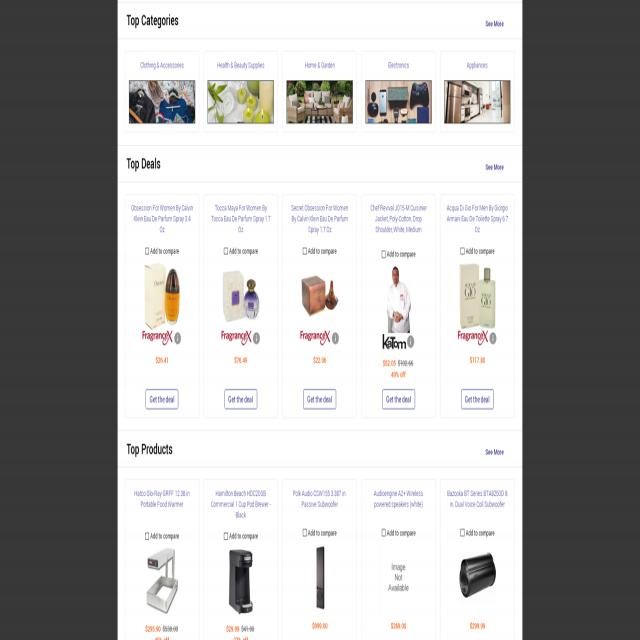button: (362, 195, 436, 420), (203, 195, 277, 418), (125, 194, 198, 418), (283, 194, 356, 418), (441, 196, 514, 416), (282, 481, 358, 640), (124, 480, 199, 640), (440, 480, 515, 640), (362, 478, 436, 640), (203, 479, 277, 640), (124, 50, 198, 132), (440, 51, 514, 132), (282, 52, 356, 132), (362, 51, 435, 132), (205, 50, 277, 132), (225, 389, 258, 409), (382, 389, 415, 409), (461, 389, 494, 409), (146, 389, 178, 409), (304, 389, 336, 409), (142, 330, 173, 346), (221, 330, 251, 346), (300, 330, 330, 346), (458, 330, 488, 346), (382, 334, 406, 349), (174, 331, 182, 346), (253, 331, 261, 346), (332, 331, 340, 346), (490, 331, 498, 346), (408, 334, 414, 349)
field: (224, 532, 228, 540), (303, 248, 307, 255), (460, 529, 464, 536), (145, 533, 149, 540), (460, 248, 464, 254), (145, 248, 149, 254), (224, 248, 228, 254), (303, 530, 307, 536), (382, 251, 385, 258), (382, 530, 385, 536)
